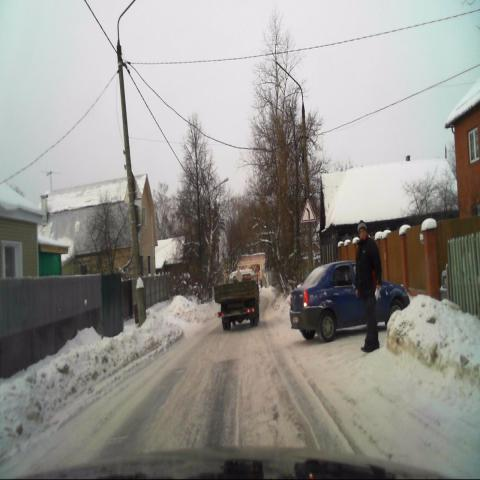1_11: (300, 199, 316, 222)
